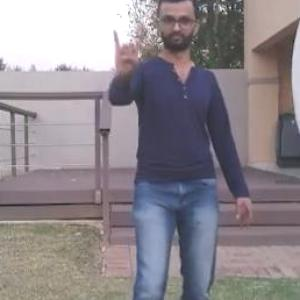takeoff-hand: (106, 15, 151, 72)
